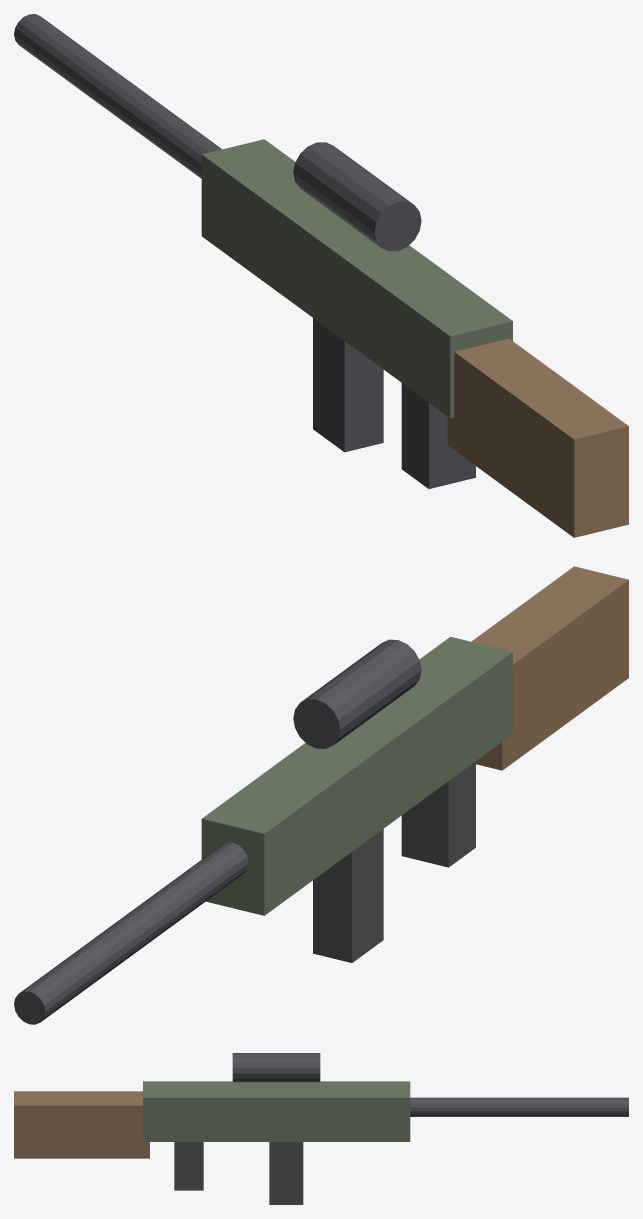
The model's file is rifle.glb.
The picture shows the model from 3 angles, top to bottom: view 1: azimuth 30°, elevation 25°; view 2: azimuth 150°, elevation 25°; view 3: azimuth 270°, elevation 25°; orthographic projection. The views are drawn at different scales.
Visible parts, largest first — view 1: cuerpo, culata, canon, mira_telescopica, cargador, empunadura; view 2: cuerpo, culata, canon, mira_telescopica, cargador, empunadura; view 3: cuerpo, culata, canon, mira_telescopica, cargador, empunadura.
Boxes of the visible parts, left/top/right/bottom form: cuerpo: left=201, top=139, right=512, bottom=418; culata: left=447, top=338, right=628, bottom=537; canon: left=14, top=14, right=221, bottom=178; mira_telescopica: left=293, top=142, right=421, bottom=251; cargador: left=313, top=318, right=383, bottom=452; empunadura: left=401, top=383, right=475, bottom=488; cuerpo: left=201, top=636, right=512, bottom=915; culata: left=471, top=566, right=628, bottom=770; canon: left=14, top=842, right=248, bottom=1024; mira_telescopica: left=293, top=639, right=421, bottom=748; cargador: left=313, top=829, right=383, bottom=962; empunadura: left=401, top=761, right=475, bottom=867; cuerpo: left=143, top=1081, right=410, bottom=1141; culata: left=14, top=1091, right=149, bottom=1158; canon: left=410, top=1097, right=628, bottom=1116; mira_telescopica: left=232, top=1053, right=320, bottom=1082; cargador: left=269, top=1142, right=303, bottom=1204; empunadura: left=174, top=1142, right=203, bottom=1190.
Size of the model in its own units: 0.08 by 0.33 by 1.26.
